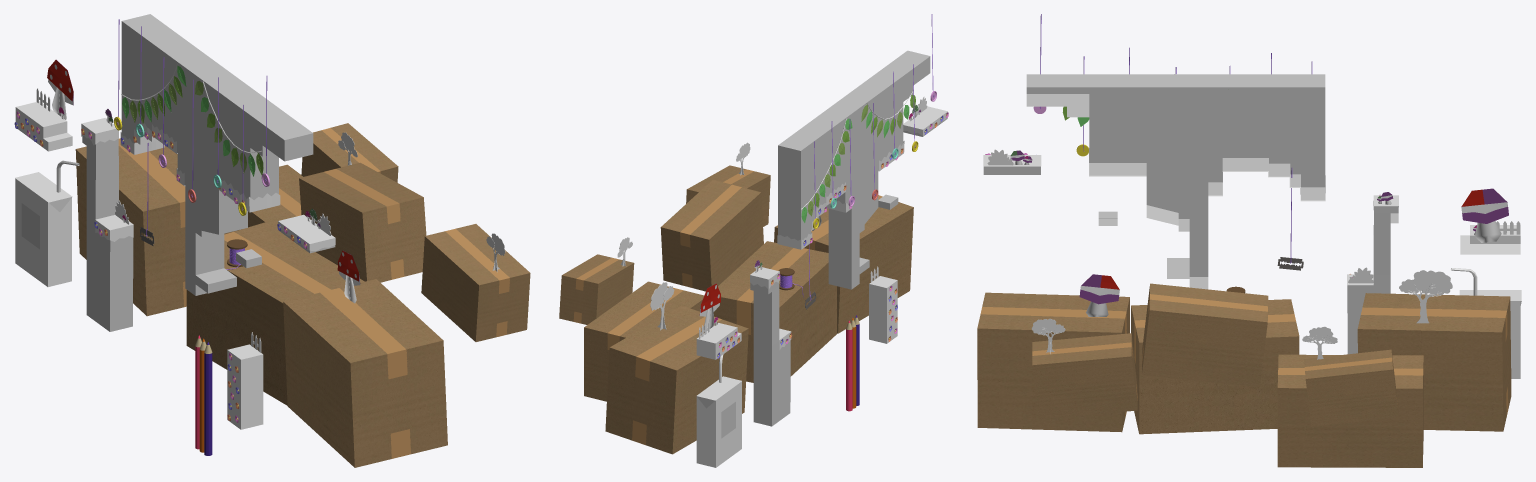
Rendered from Pantalla7-DEF.fbx.
The picture shows the model from 3 angles, left to right: view 1: azimuth 30°, elevation 25°; view 2: azimuth 150°, elevation 25°; view 3: azimuth 270°, elevation 25°; orthographic projection. The views are drawn at different scales.
Visible parts, largest first — view 1: Screen7.002, Caja_1.005, Screen7, Cube.003, Caja_1.007, Caja_1.002, Caja_1.006, Screen7.001, Caja_1.008, Cylinder.002, Caja_1.003, Plane.073 (+3 smaller); view 2: Screen7.002, Caja_1.002, Screen7, Caja_1.007, Cube.003, Caja_1.005, Caja_1.003, Caja_1.008, Screen7.001, Caja_1.006, Cylinder.002, Plane.073 (+3 smaller); view 3: Screen7.002, Caja_1.002, Caja_1.005, Caja_1.007, Caja_1.003, Cube.003, Caja_1.006, Caja_1.008, Screen7, Plane.070, Screen7.001, Plane.071 (+1 smaller).
Boxes of the visible parts, x1,y1,x2,y2 form: Screen7.002: (120,14,313,295); Caja_1.005: (283,279,447,467); Screen7: (15,101,335,429); Cube.003: (186,222,364,405); Caja_1.007: (299,162,426,282); Caja_1.002: (75,138,237,316); Caja_1.006: (421,224,530,341); Screen7.001: (15,160,79,286); Caja_1.008: (301,123,398,182); Cylinder.002: (195,335,212,455); Caja_1.003: (238,164,302,230); Plane.073: (121,63,186,123); Screen7.002: (777,50,930,289); Caja_1.002: (605,305,748,454); Screen7: (696,106,947,426); Caja_1.007: (660,180,763,291); Cube.003: (713,241,836,382); Caja_1.005: (774,195,913,333); Caja_1.003: (584,281,704,401); Caja_1.008: (559,254,634,324); Screen7.001: (696,354,741,467); Caja_1.006: (686,165,770,226); Cylinder.002: (846,315,859,411); Plane.073: (801,118,852,222); Screen7.002: (1026,74,1325,289); Caja_1.002: (1357,293,1511,431); Caja_1.005: (977,292,1129,432); Caja_1.007: (1142,283,1268,386); Caja_1.003: (1277,354,1423,467); Cube.003: (1131,299,1299,434); Caja_1.006: (1032,333,1137,419); Caja_1.008: (1304,349,1398,426); Screen7: (983,155,1520,354); Plane.070: (1461,188,1508,242); Screen7.001: (1450,268,1521,378); Plane.071: (1079,274,1119,316).
Size of the model in its own units: 4673 by 7040 by 8630.
